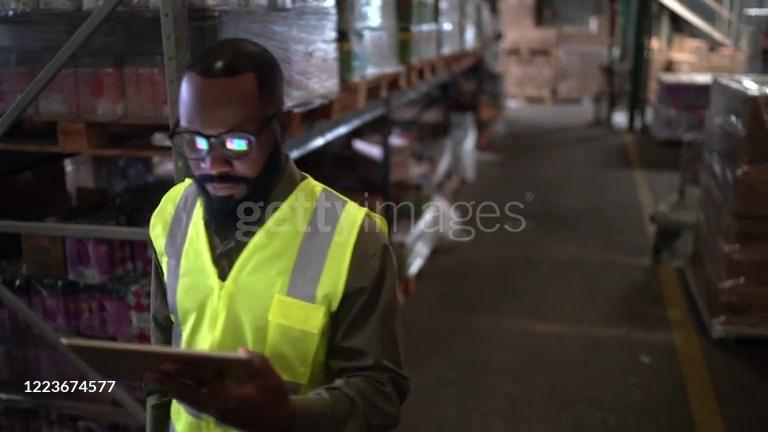person: (140, 33, 414, 432)
